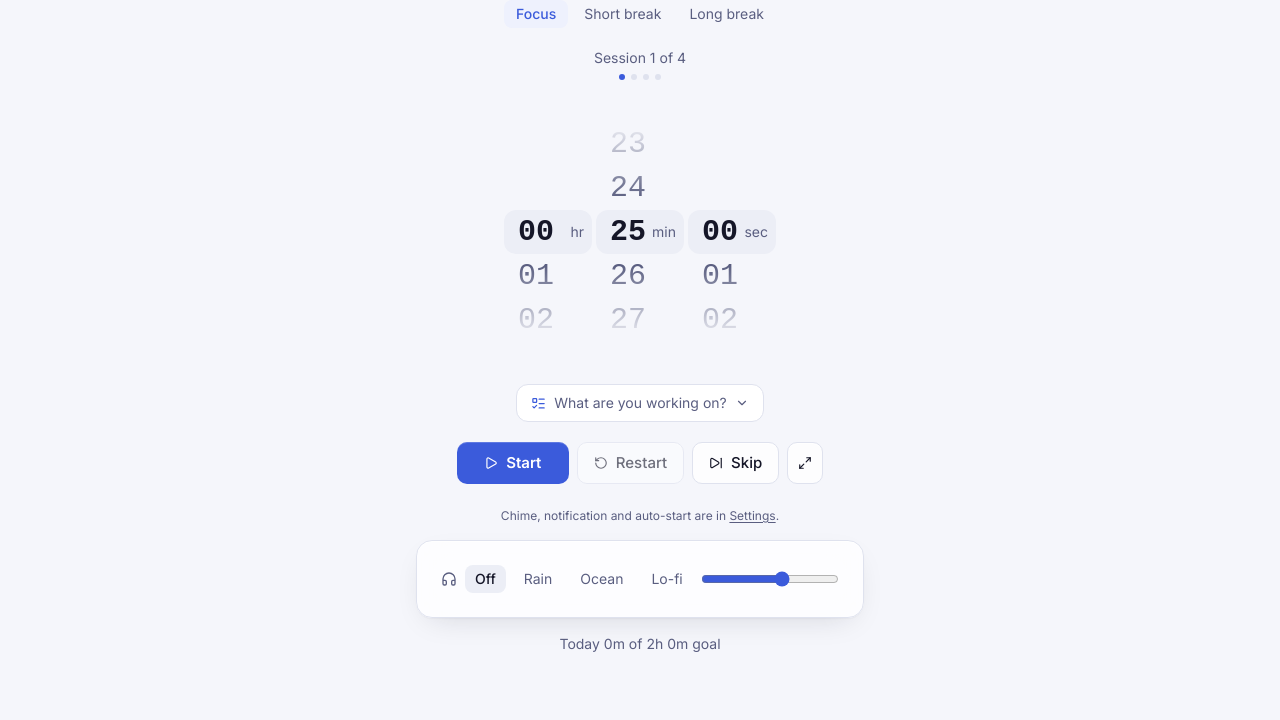
Test: Focus page full screen › opens from the button, shows the timer large with its controls, and closes with Exit
(page scrolled)
Click the button named "Full screen" at (805, 463), box [787, 442, 823, 484]
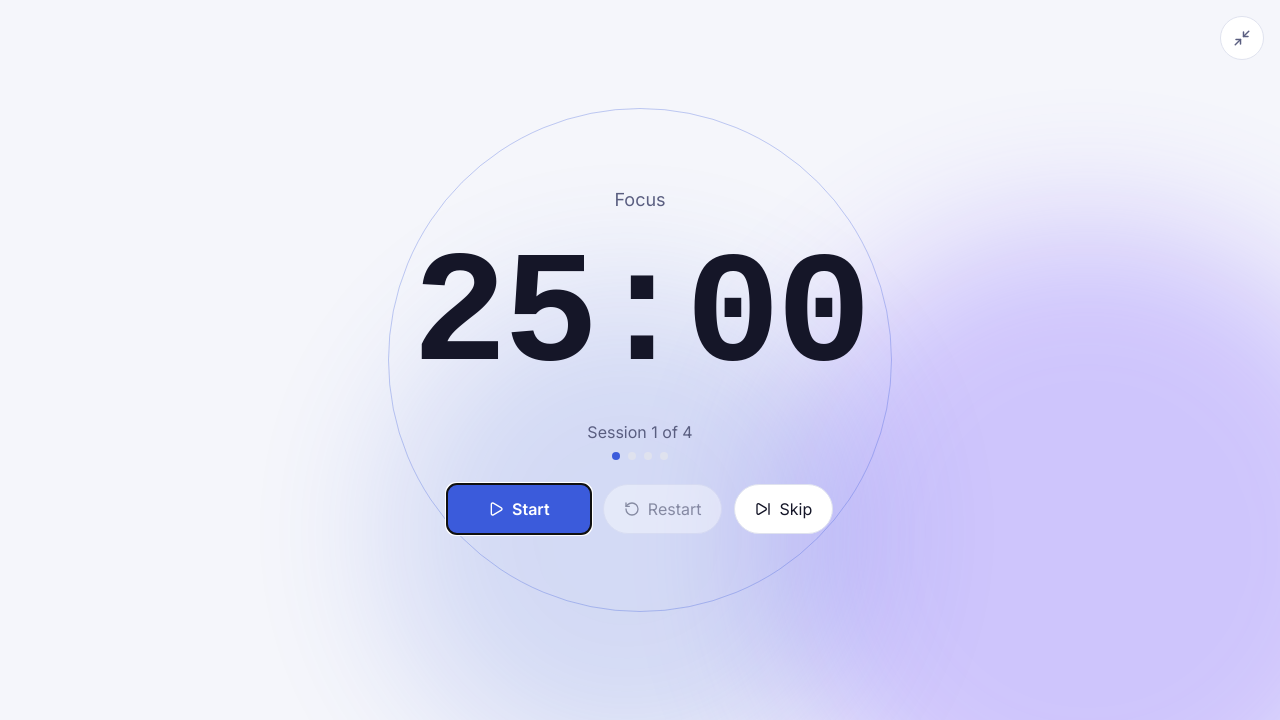
Check: the dialog named "Full screen timer" shows "25:00", box [412, 227, 868, 407]
Check: the dialog named "Full screen timer" shows "Session 1 of 4"
Click the button "Start" at (519, 509), box [447, 484, 591, 534]
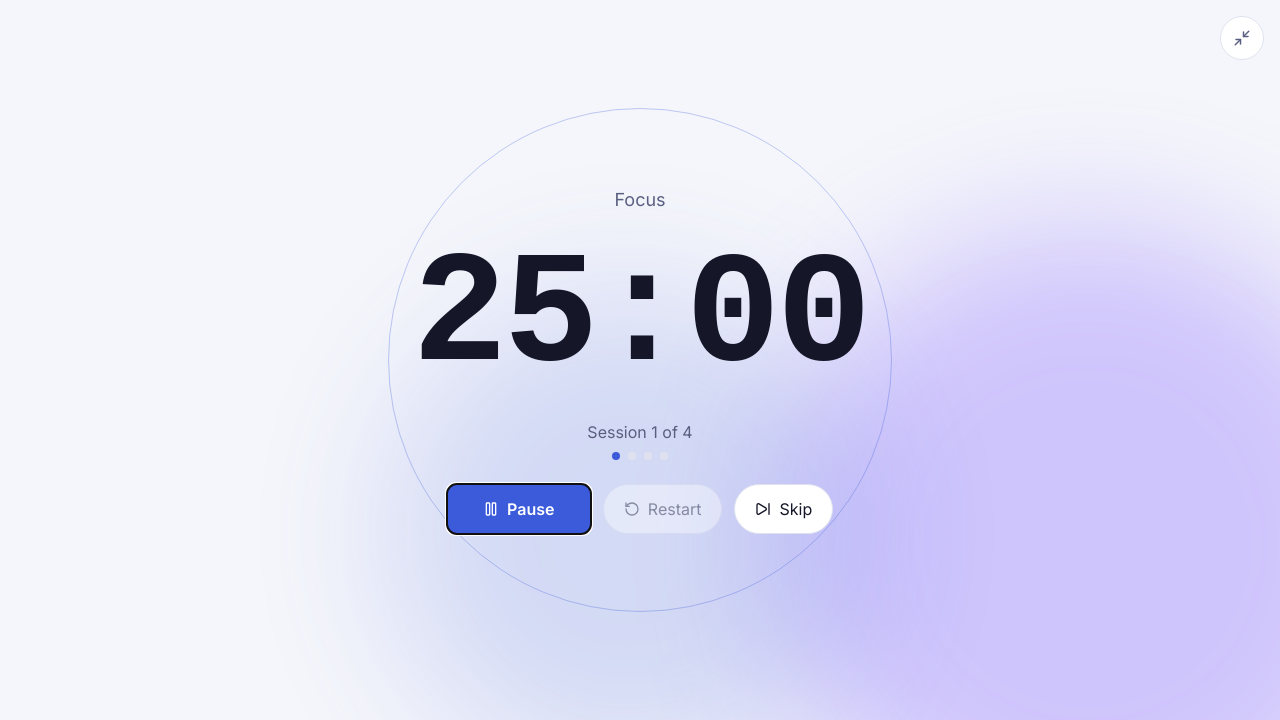
Check: the button "Pause" is shown, box [447, 484, 591, 534]
Click the button named "Exit full screen" at (1242, 38), box [1220, 16, 1264, 60]
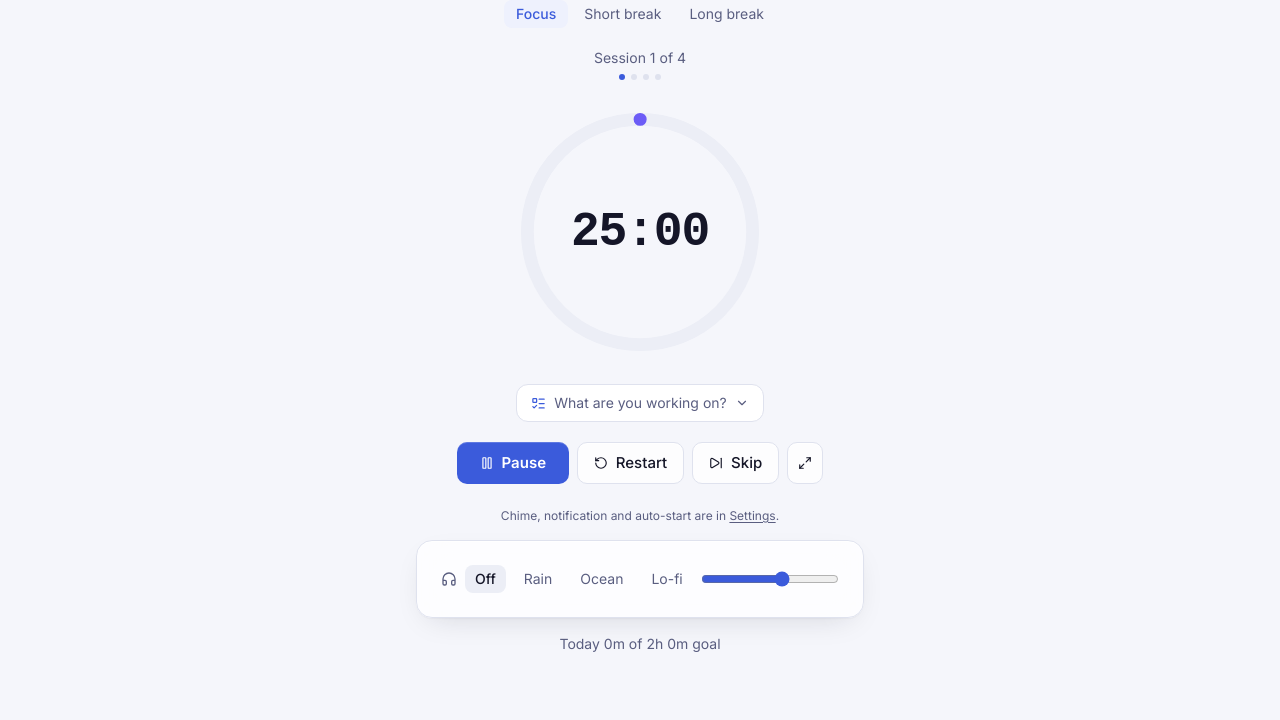
Check: the dialog is gone
